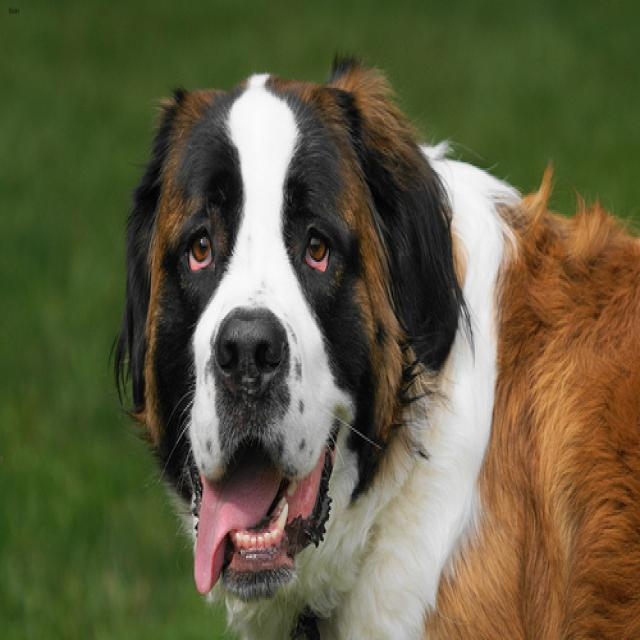dog-saint_bernard: (101, 40, 637, 636)
